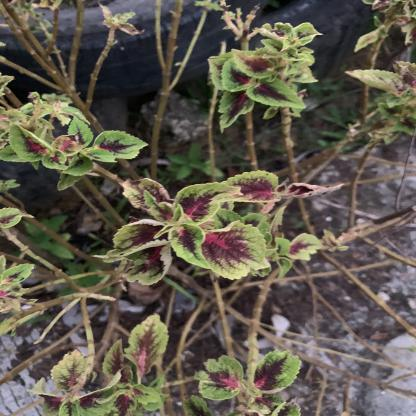Bunga Coleus: (28, 39, 347, 401)
